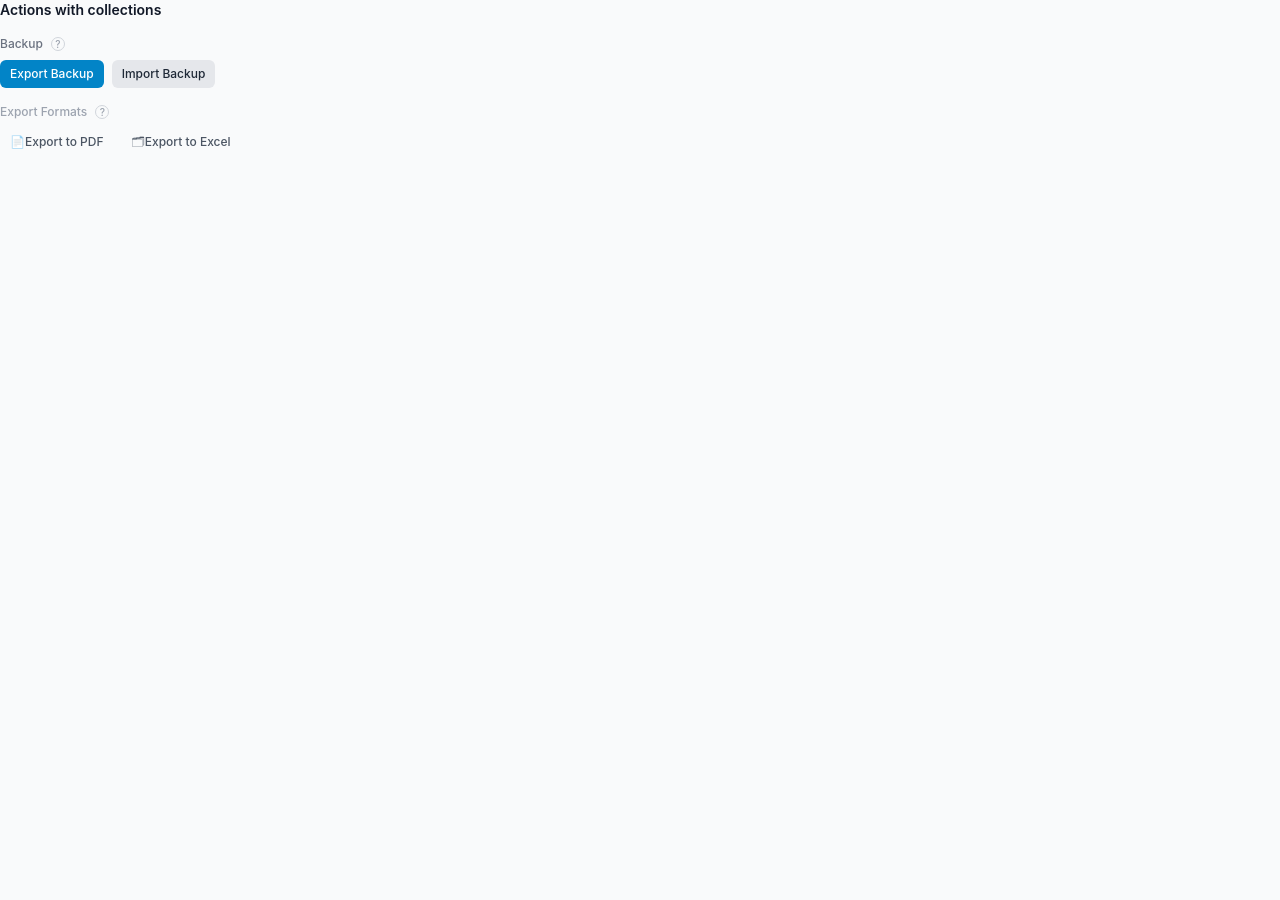
Test: BackupSection › displays error when export fails
Step 1. Click the button "Export Backup" → (52, 74), box top-left (0, 60), bottom-right (104, 88)
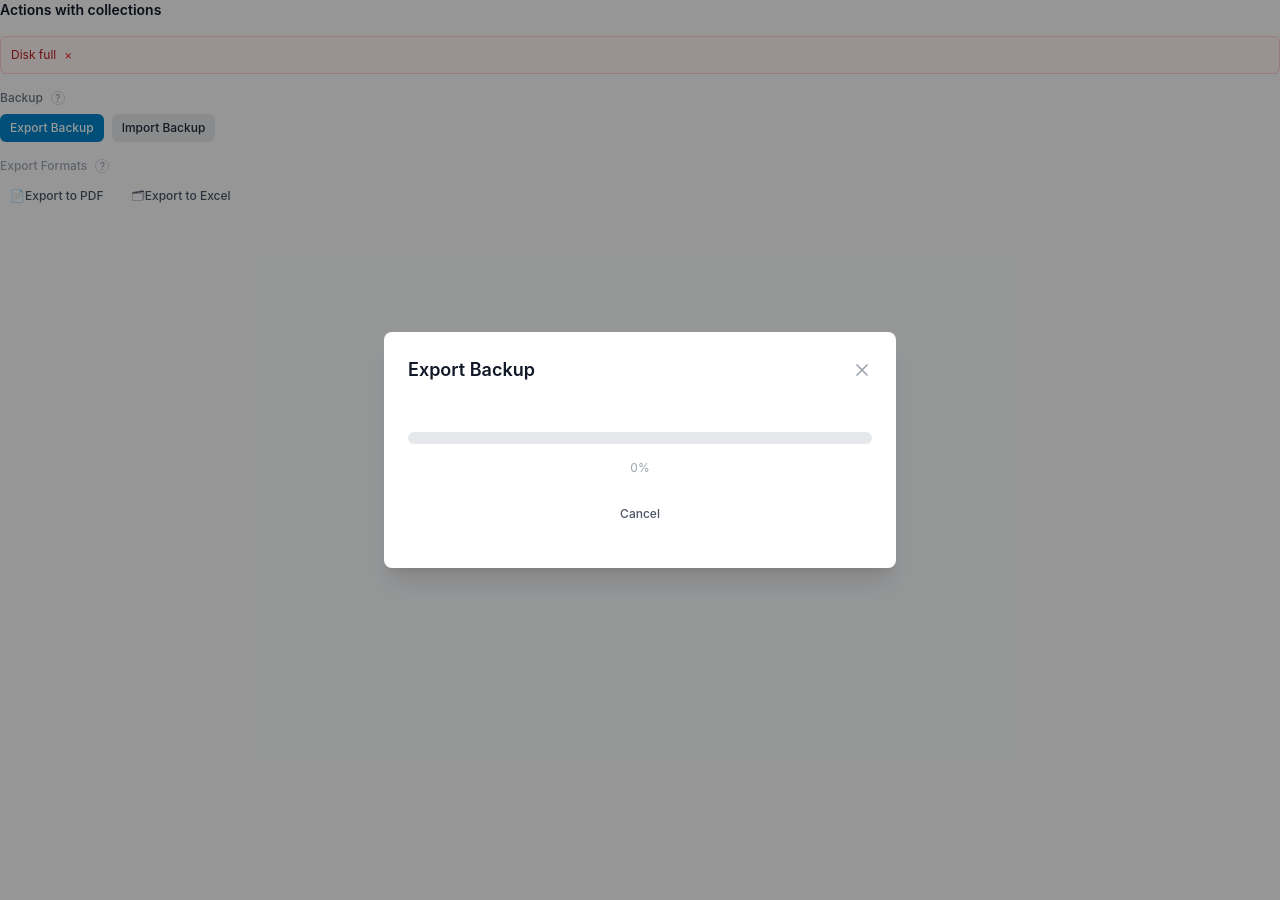
Expected: the text "Disk full" is shown, top-left (11, 47), bottom-right (56, 62)
